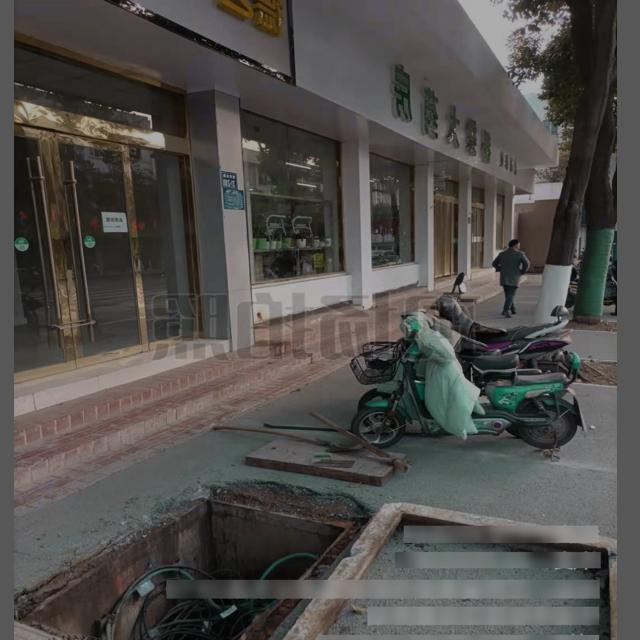lose: (16, 492, 364, 640)
